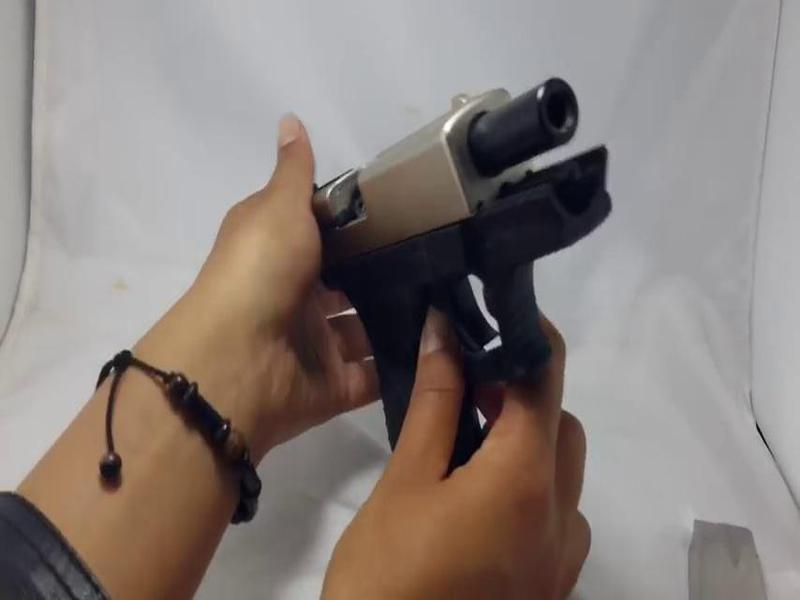Pistola: (292, 69, 623, 540)
